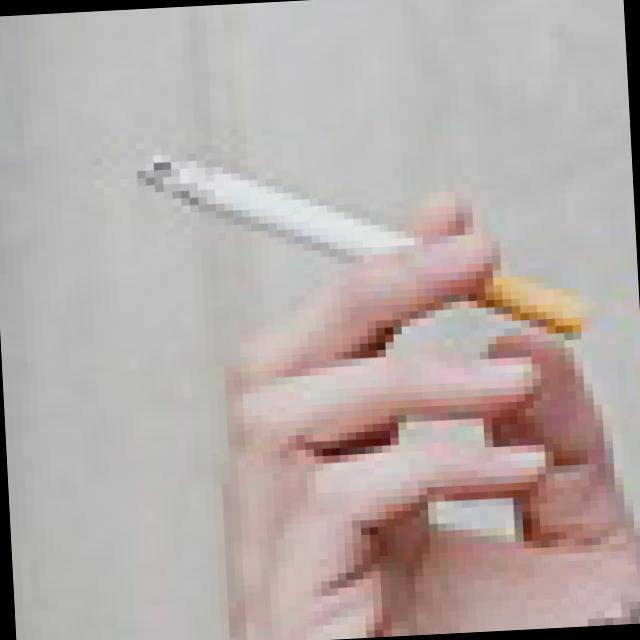cigarette: (117, 138, 407, 270)
